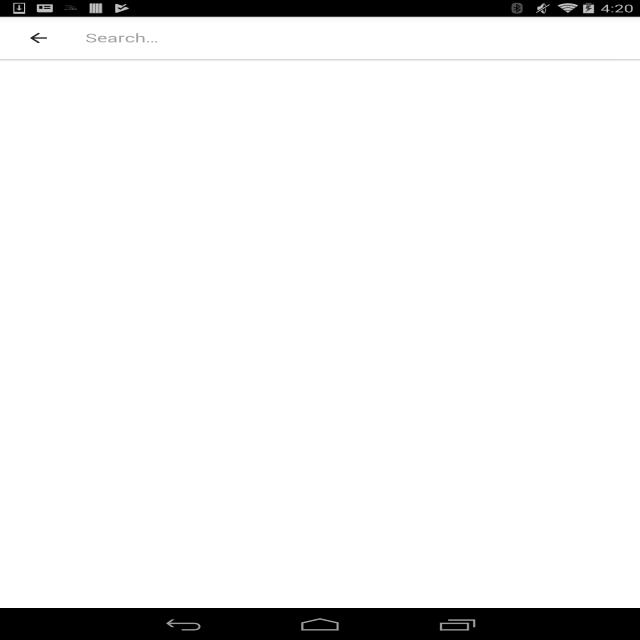ImageButton: (19, 28, 62, 48)
